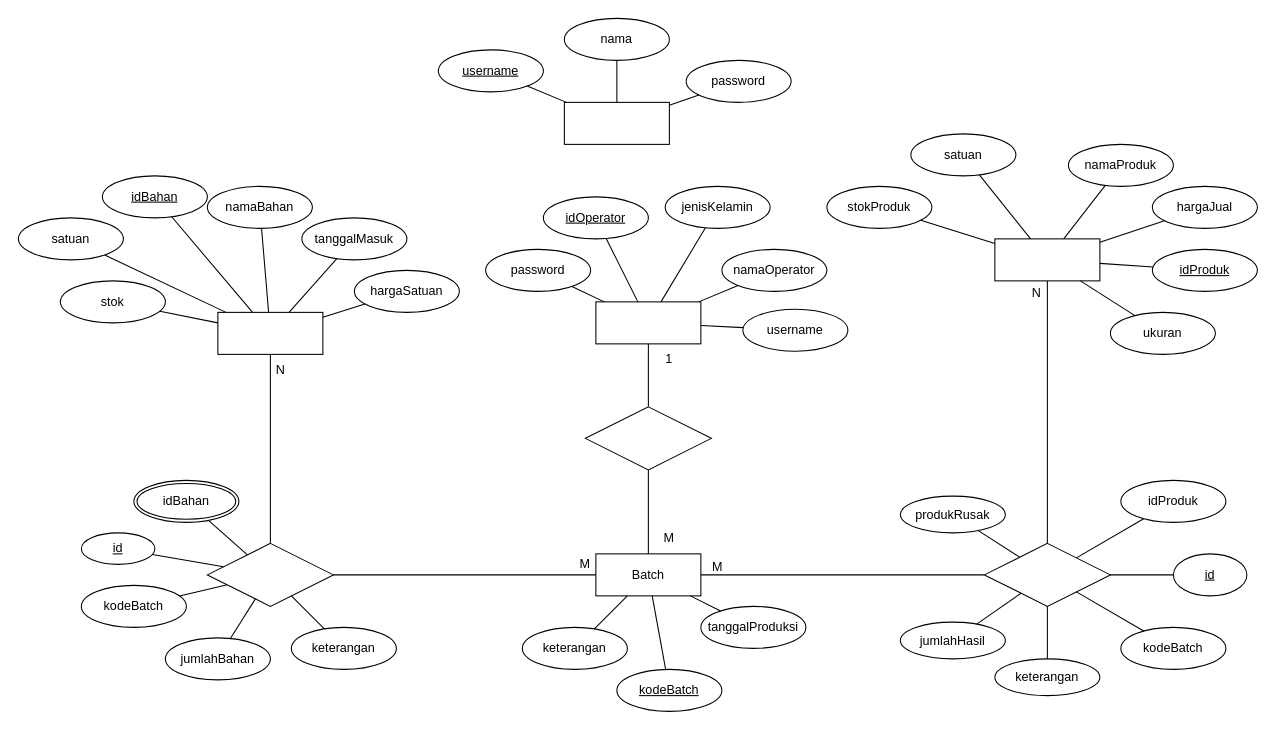
Image size: 1276x730. Some labels were removed from this diagram. The shapes that lost their labels are listed below. From the top down, each one's box as (x1, y1, x2, y2) in pixels, then its label:
(563, 101, 669, 144): Admin
(994, 238, 1100, 281): Produk
(217, 311, 323, 354): Bahan
(595, 301, 701, 344): Operator
(584, 406, 711, 470): Mengelola
(206, 542, 333, 606): Menggunakan
(983, 542, 1110, 606): Menghasilkan
